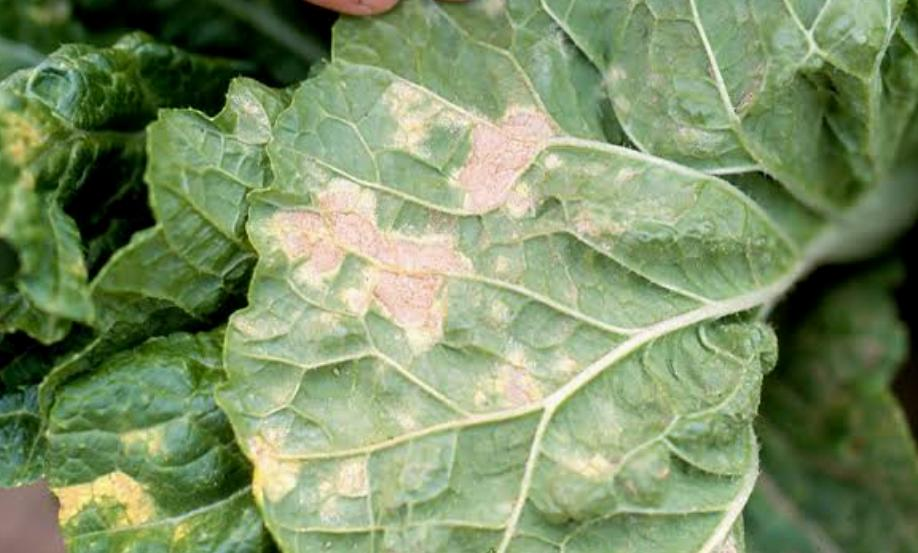Bok-Choy-Diseased: (185, 20, 772, 553)
